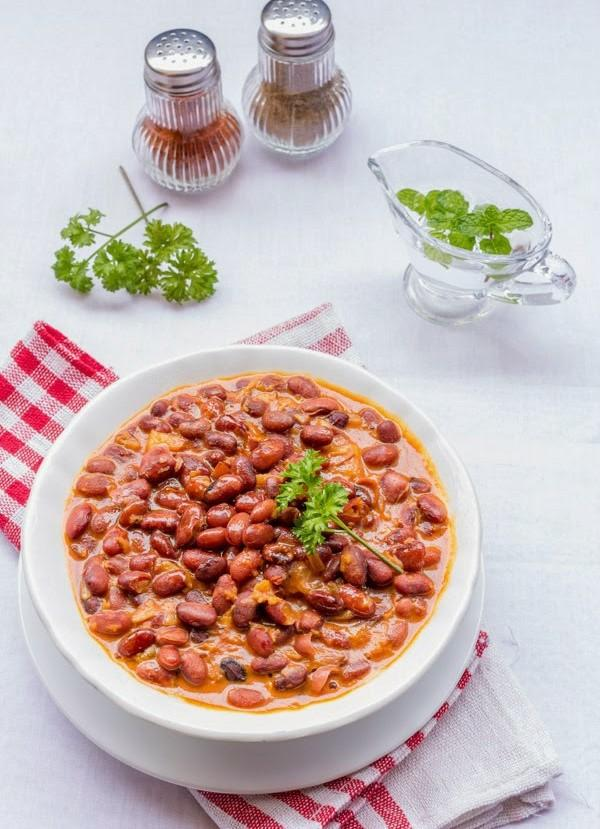RajmaCurry: (57, 369, 448, 708)
